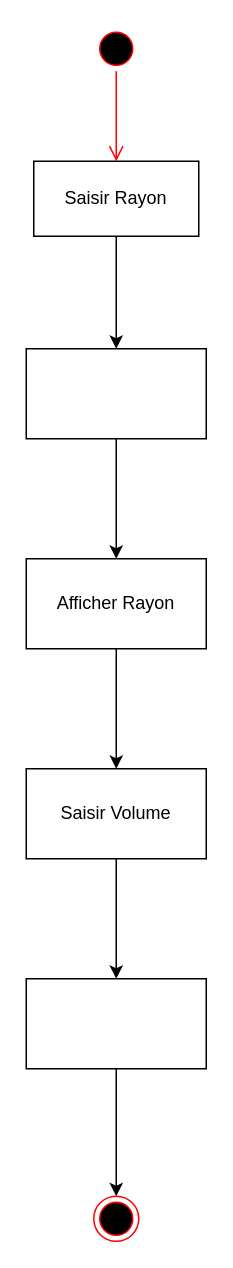
Some shapes in this 233 by 1268 pixel diagram are drawn without their labels. The shapes that lost their labels are listed below. From the top down, each one's box as (x1, y1, x2, y2) in pixels, then its label:
(25, 347, 206, 439): Rayon = 4*pi*R*R
(25, 977, 206, 1069): Volume = 4*Pi*R*R*R
